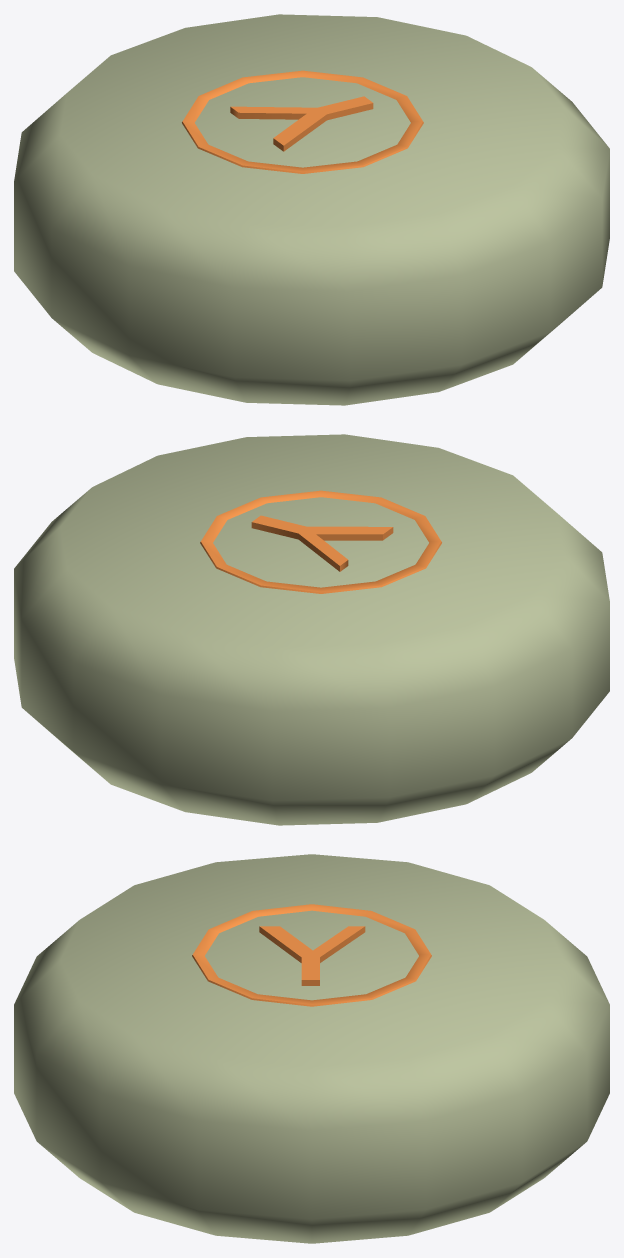
File: Yogaroom_pillow5.fbx
The picture shows the model from 3 angles, top to bottom: view 1: azimuth 30°, elevation 25°; view 2: azimuth 150°, elevation 25°; view 3: azimuth 270°, elevation 25°; orthographic projection.
Parts seen in each view (by area): view 1: Yogaroom_pillow5; view 2: Yogaroom_pillow5; view 3: Yogaroom_pillow5.
Boxes of the visible parts, bbox=[...] form: Yogaroom_pillow5: bbox=[14, 14, 609, 405]; Yogaroom_pillow5: bbox=[14, 434, 609, 825]; Yogaroom_pillow5: bbox=[14, 854, 609, 1243].
Bounding box in the file's own units: 55.96 × 19.15 × 55.96.
